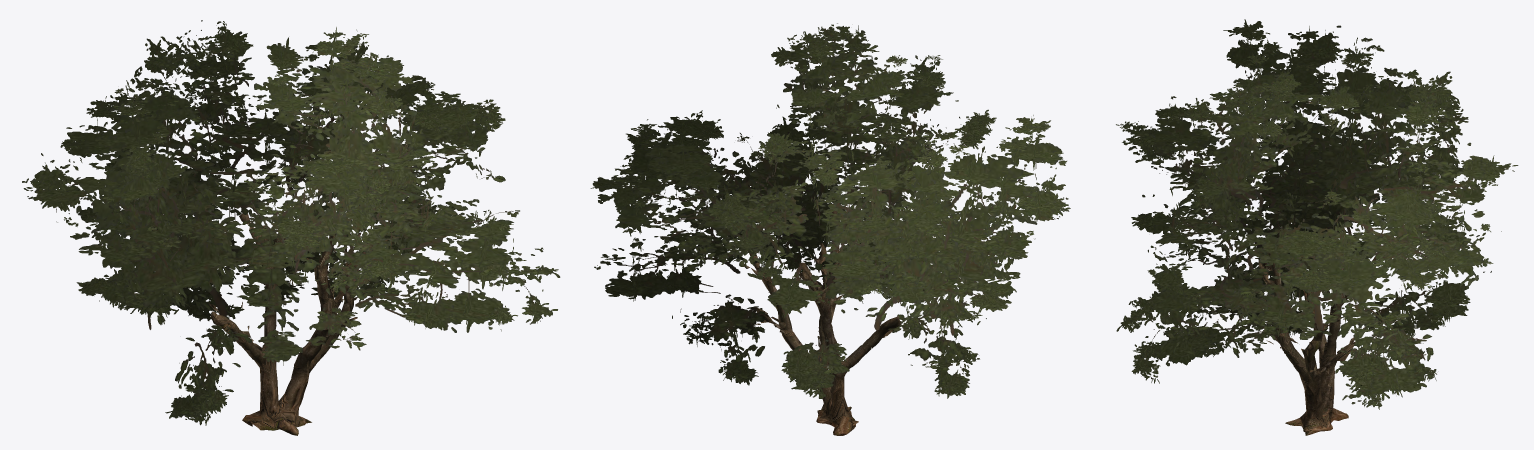
The model's file is jacaranda.glb.
3 renders of one model, left to right at view 1: azimuth 30°, elevation 25°; view 2: azimuth 150°, elevation 25°; view 3: azimuth 270°, elevation 25°, orthographic. The views are drawn at different scales.
Parts seen in each view (by area): view 1: foliage, jacaranda_tree_LOD0 (×2); view 2: foliage, jacaranda_tree_LOD0 (×2); view 3: foliage, jacaranda_tree_LOD0 (×2).
Boxes of the visible parts, left/top/right/bottom form: foliage: left=22, top=20, right=560, bottom=425; jacaranda_tree_LOD0 (×2): left=209, top=213, right=388, bottom=435; foliage: left=590, top=23, right=1070, bottom=398; jacaranda_tree_LOD0 (×2): left=744, top=203, right=900, bottom=435; foliage: left=1116, top=19, right=1518, bottom=409; jacaranda_tree_LOD0 (×2): left=1255, top=252, right=1380, bottom=435.
Bounding box in the file's own units: 24.46 × 19.42 × 19.32.
2 materials, 2 textured.
